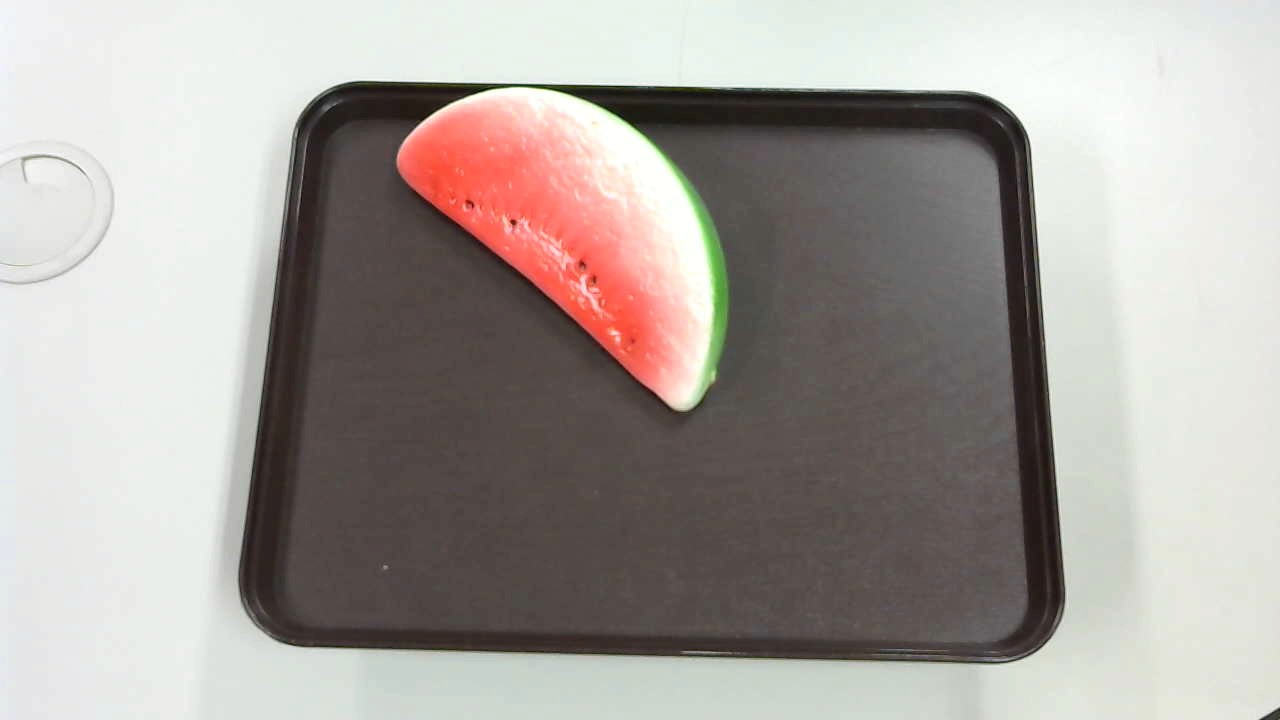water melon: (381, 83, 749, 425)
